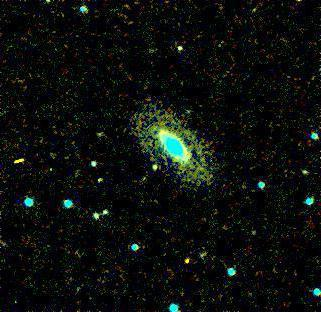star: (138, 116, 168, 146)
